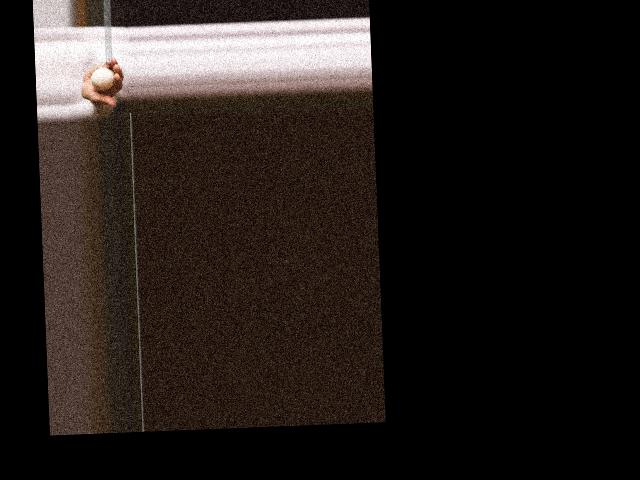egg: (91, 67, 115, 90)
